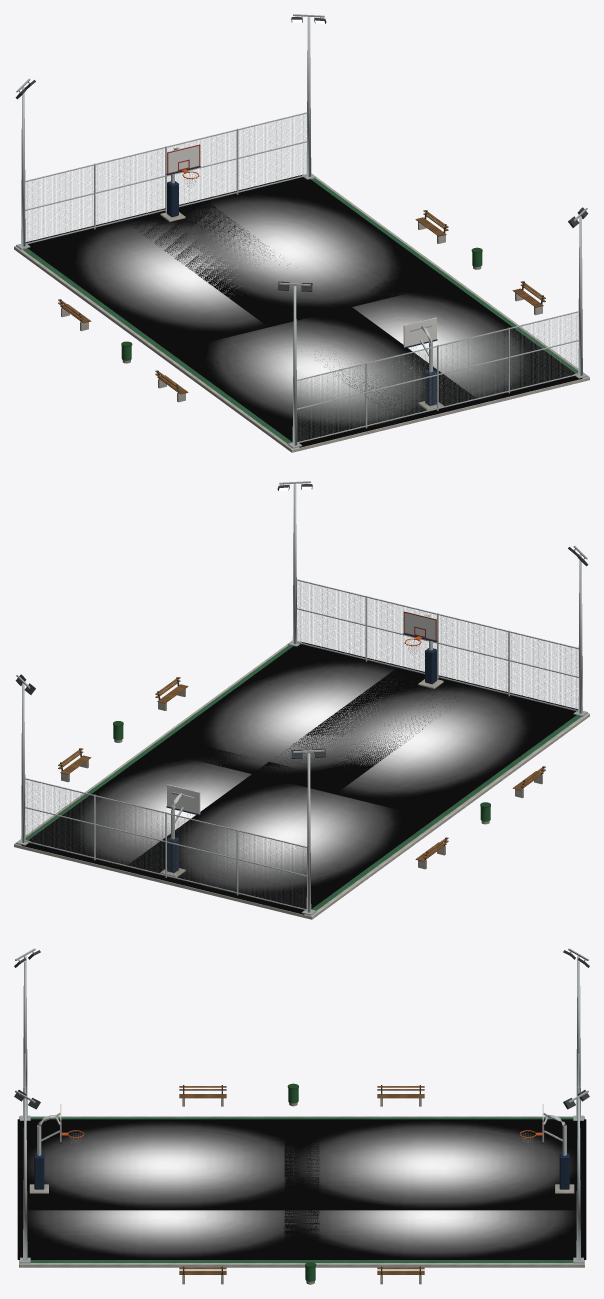
File: LM_ENV_Basketball.glb
The picture shows the model from 3 angles, top to bottom: view 1: azimuth 30°, elevation 25°; view 2: azimuth 150°, elevation 25°; view 3: azimuth 270°, elevation 25°; orthographic projection.
Visible parts, largest first — view 1: basketball | Night wash floodlight, basketball | Chain link, basketball | Galvanised steel, basketball | Court concrete, basketball | Ground acrylic, basketball | Painted steel, basketball | Backboard, basketball | Bench timber; view 2: basketball | Night wash floodlight, basketball | Chain link, basketball | Galvanised steel, basketball | Court concrete, basketball | Ground acrylic, basketball | Painted steel, basketball | Backboard, basketball | Bench timber; view 3: basketball | Night wash floodlight, basketball | Court concrete, basketball | Galvanised steel, basketball | Ground acrylic, basketball | Painted steel, basketball | Bench timber.
Boxes of the visible parts, x1,y1,x2,y2 form: basketball | Night wash floodlight: (25,174,582,447); basketball | Chain link: (26,114,578,441); basketball | Galvanised steel: (16,14,587,448); basketball | Court concrete: (14,175,589,452); basketball | Ground acrylic: (22,178,578,443); basketball | Painted steel: (15,17,588,405); basketball | Backboard: (167,144,436,347); basketball | Bench timber: (58,210,545,394); basketball | Night wash floodlight: (21,641,578,914); basketball | Chain link: (25,581,577,908); basketball | Galvanised steel: (16,481,587,915); basketball | Court concrete: (14,642,589,919); basketball | Ground acrylic: (25,645,581,910); basketball | Painted steel: (15,484,588,872); basketball | Backboard: (167,611,436,814); basketball | Bench timber: (58,677,545,861); basketball | Night wash floodlight: (17,1119,586,1259); basketball | Court concrete: (19,1098,584,1284); basketball | Galvanised steel: (15,948,588,1263); basketball | Ground acrylic: (30,1117,573,1262); basketball | Painted steel: (14,950,589,1281); basketball | Bench timber: (179,1086,424,1274).
Bounding box in the file's own units: 20.11 × 8.64 × 26.75.
11 materials, 6 textured.
